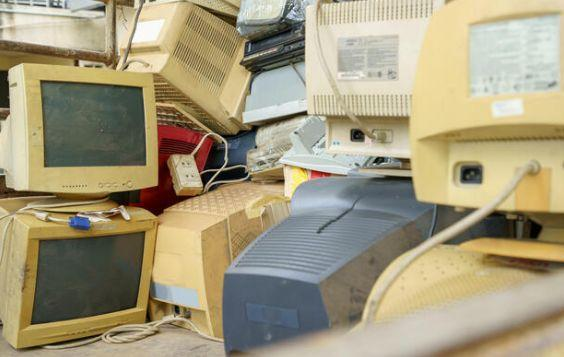electronic: (411, 1, 561, 219), (2, 203, 160, 350), (305, 1, 443, 164), (151, 180, 292, 338), (3, 62, 157, 199), (117, 1, 254, 134)
